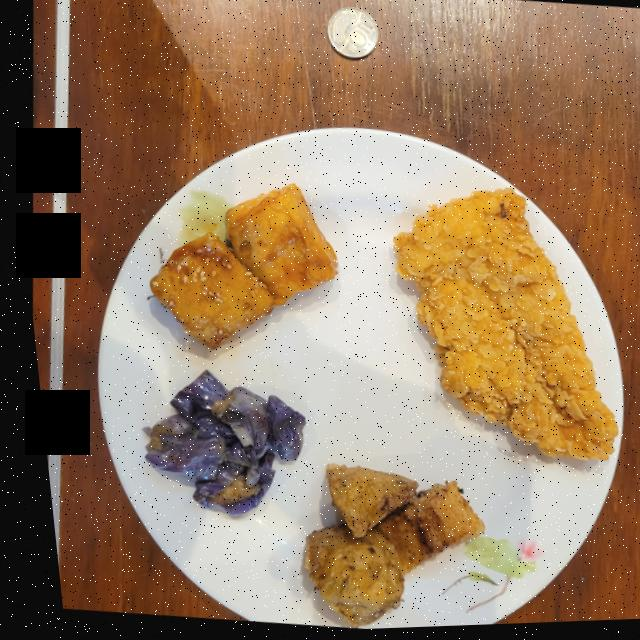coin: (325, 10, 375, 61)
creamy tofu: (142, 185, 330, 350)
fried chicken cutlet: (387, 191, 606, 464)
fried potato: (291, 466, 470, 630)
